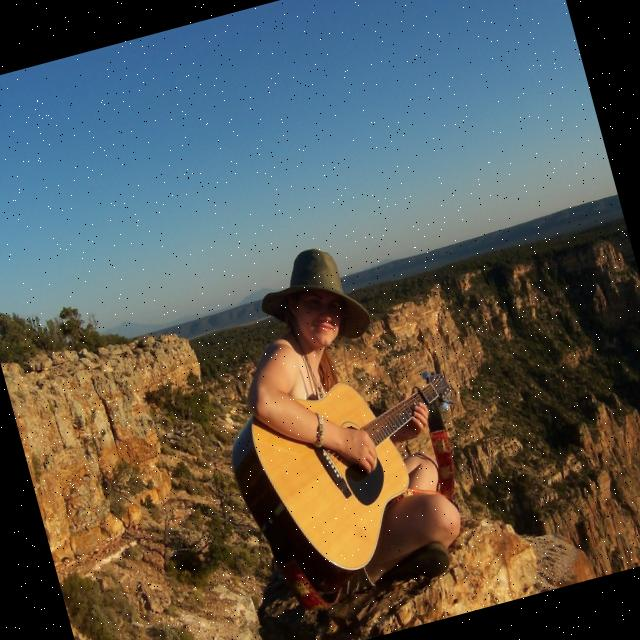guitar: (218, 363, 495, 602)
